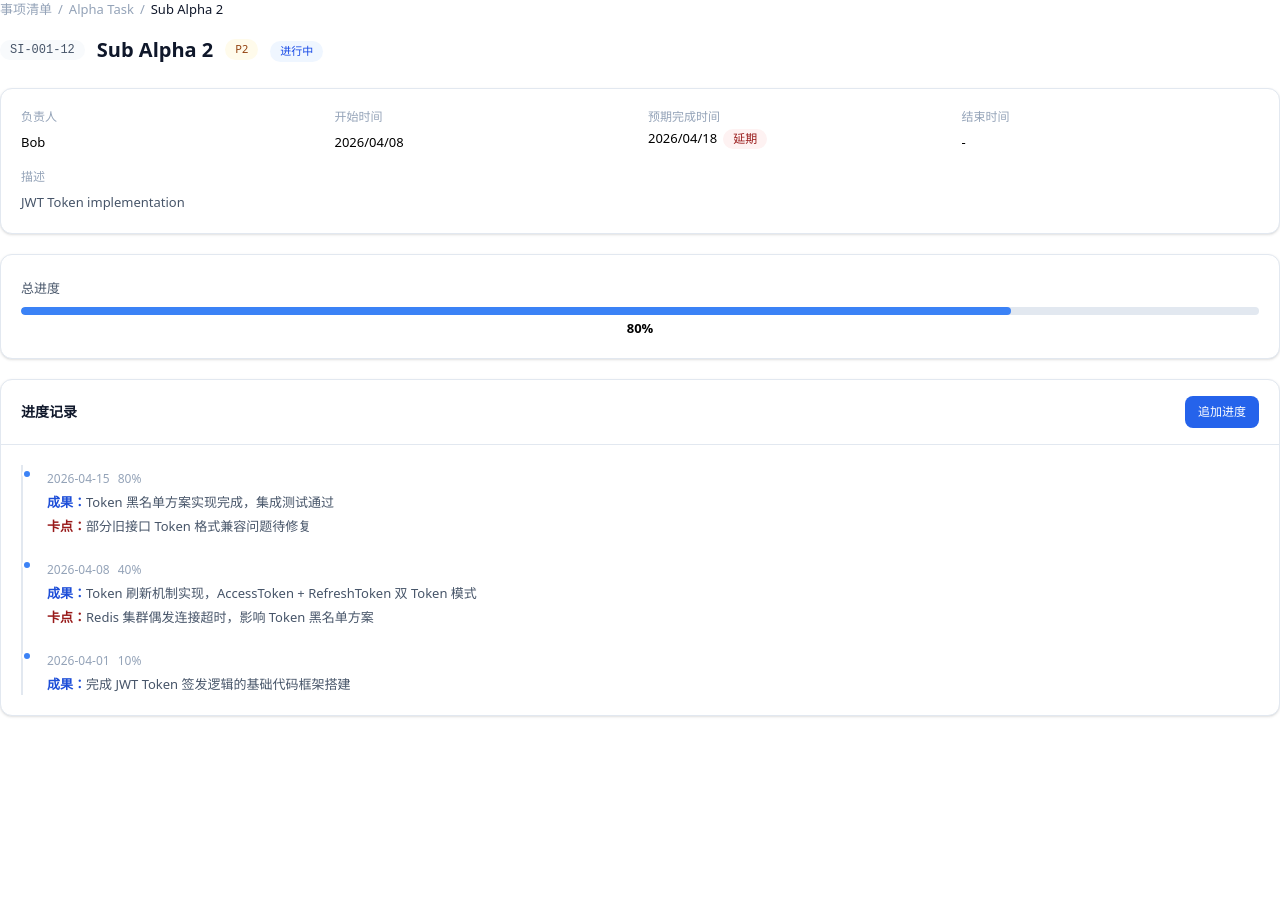
Scenario: SubItemDetailPage › opens append progress dialog
Expected: the heading "Sub Alpha 2" is shown, top-left (97, 36), bottom-right (213, 64)
Click the button "追加进度": coordinates (1222, 412) top-left (1185, 396), bottom-right (1259, 428)
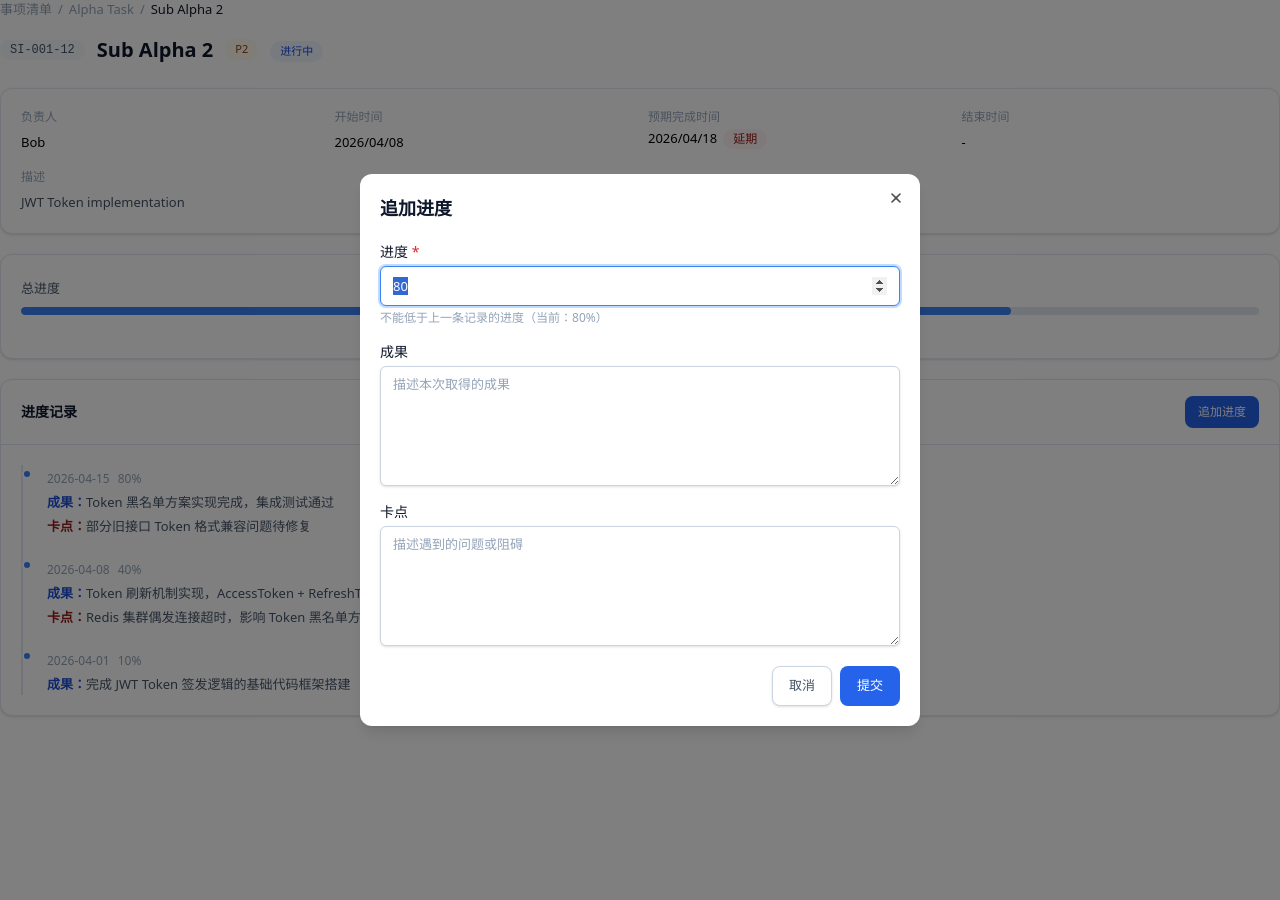
Result: the heading "追加进度" is shown at top-left (380, 196), bottom-right (452, 220)
